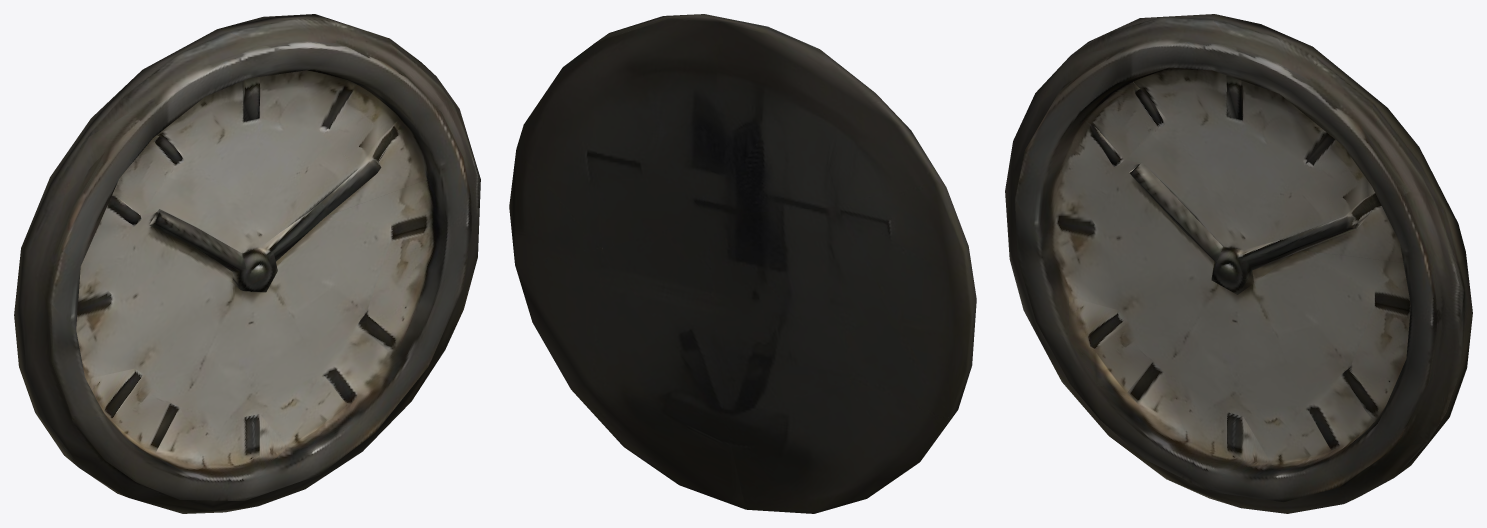
File: tripo_convert_5dd1f9ec-538e-44d3-8c89-54ce6109bc95.fbx
3 renders of one model, left to right at view 1: azimuth 30°, elevation 25°; view 2: azimuth 150°, elevation 25°; view 3: azimuth 330°, elevation 25°, orthographic.
Parts seen in each view (by area): view 1: tripo_node_5dd1f9ec; view 2: tripo_node_5dd1f9ec; view 3: tripo_node_5dd1f9ec.
Part boxes in pixels (left/top/right/bottom): tripo_node_5dd1f9ec: left=14, top=14, right=480, bottom=513; tripo_node_5dd1f9ec: left=509, top=14, right=976, bottom=513; tripo_node_5dd1f9ec: left=1005, top=14, right=1472, bottom=513.
Bounding box in the file's own units: 1 × 0.9996 × 0.0649.
1 material, 1 textured.
